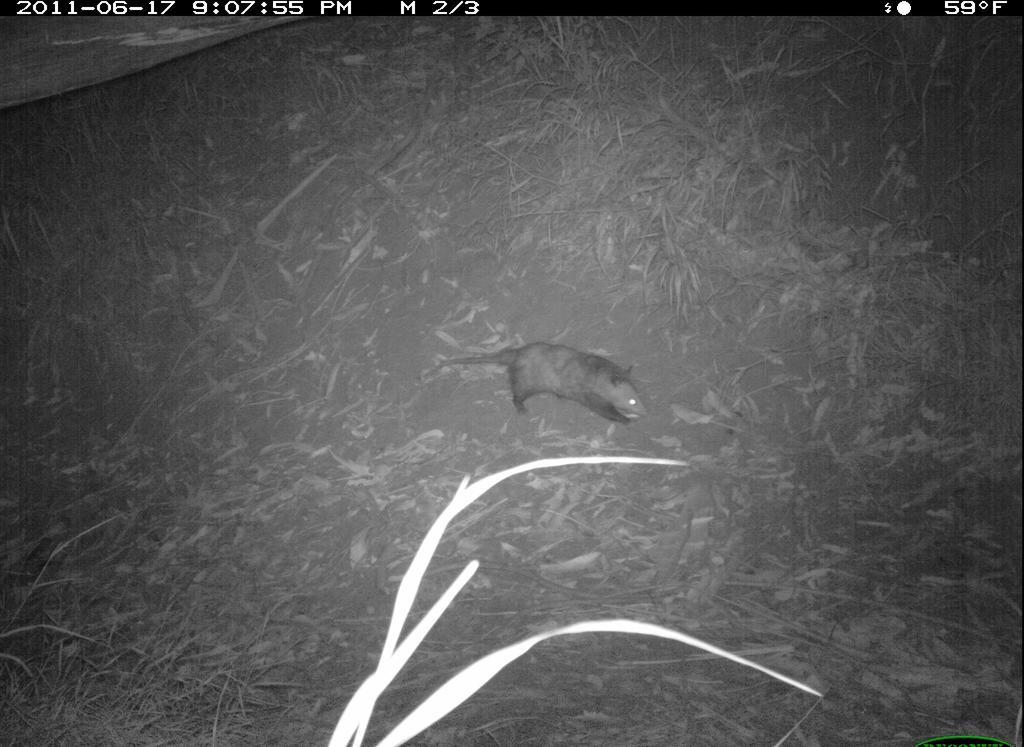opossum: (404, 323, 662, 441)
